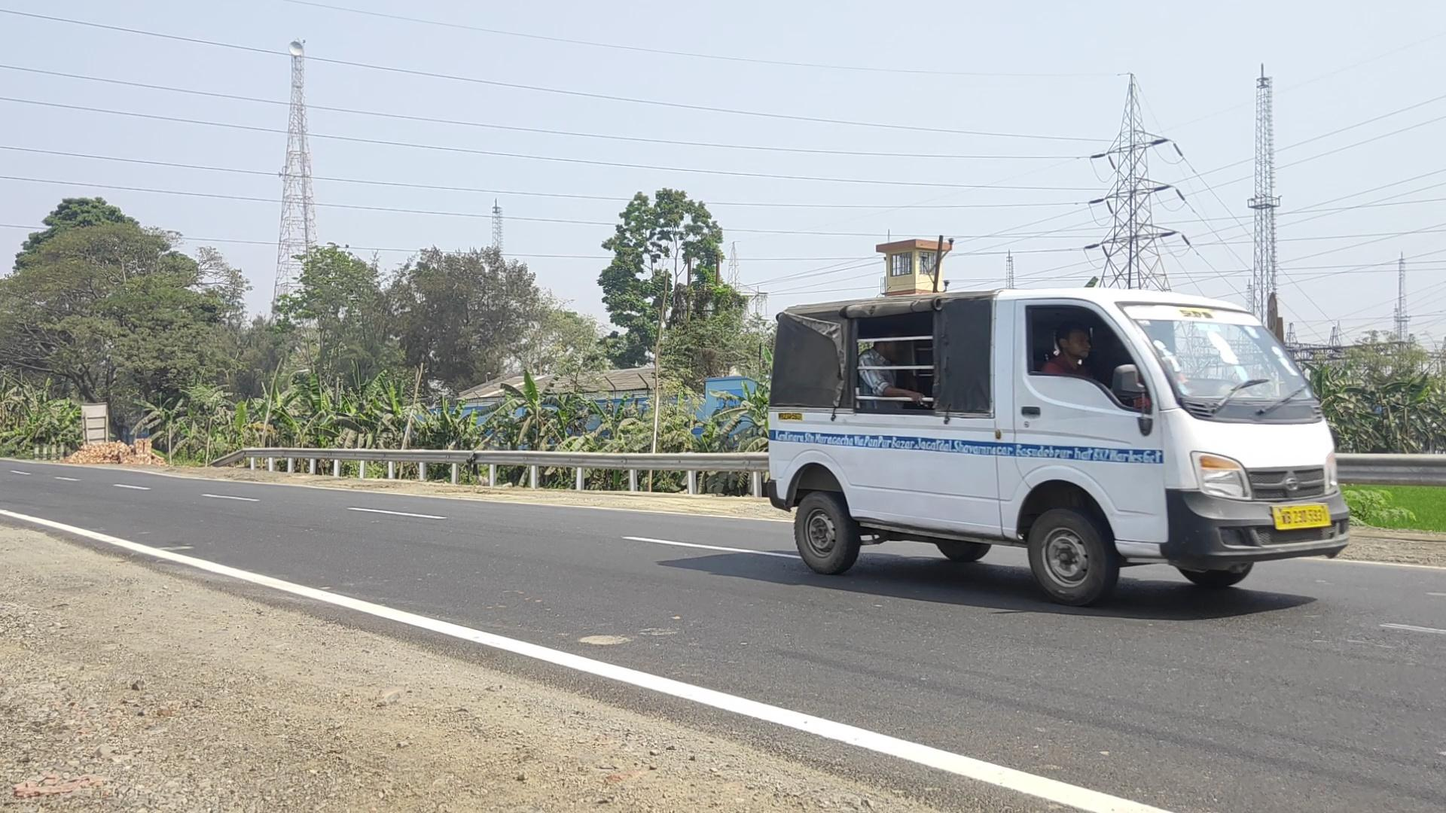van: (765, 287, 1351, 609)
